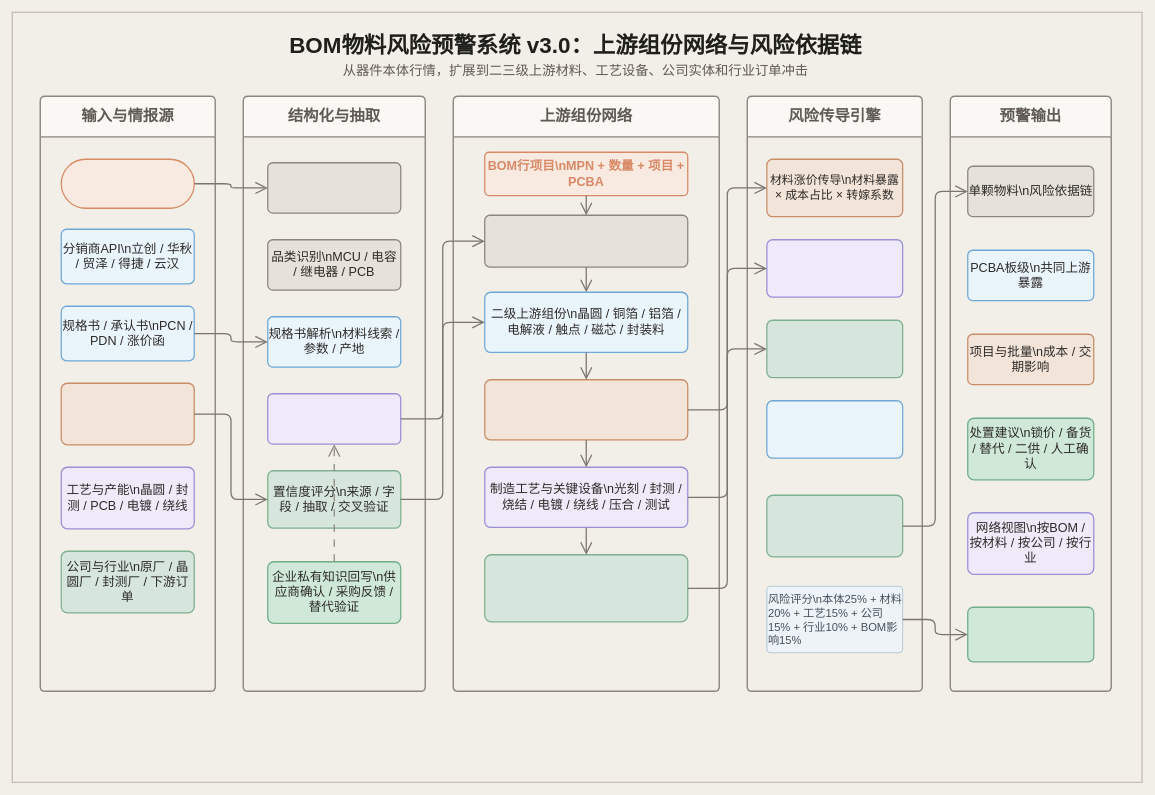
The diagram is 1155 pixels wide and 795 high, and some of its shapes have lost their labels. Here are the shapes that lost their labels. From the top down, the centre of each, then its label:
[127,183]: 历史BOM / 新BOM\nAVL / 替代料库
[334,187]: 型号标准化\n品牌 / MPN / 封装
[586,240]: 器件品类与结构\nMCU / 电源IC / 铝电解 / 继电器 / 连接器 / PCB
[834,268]: 产能瓶颈传导\n工艺依赖 × 替代产能 × 排产热度
[834,348]: 公司实体风险\n原厂 / 供应商 / 封测厂 / 材料商
[127,413]: 材料行情\n铜 / 银 / 铝 / 树脂 / 玻纤 / 硅片
[334,418]: 组份模板匹配\n模板 + 规格书增强
[586,409]: 三级原料与化工品\n铜 / 银 / 铝 / 硅片 / 树脂 / 玻纤 / 陶瓷粉体
[834,429]: 行业订单挤占\n汽车 / 储能 / 光伏 / AI服务器
[834,525]: AI综合判断\n证据链 + 置信度 + 影响量化
[586,588]: 公司实体与行业冲击\n原厂 / 晶圆厂 / 封测厂 / 材料商 / 汽车 / 光伏 / AI服务器
[1030,634]: 预警分发\n红色即时 / 橙色重点 / 黄色关注
